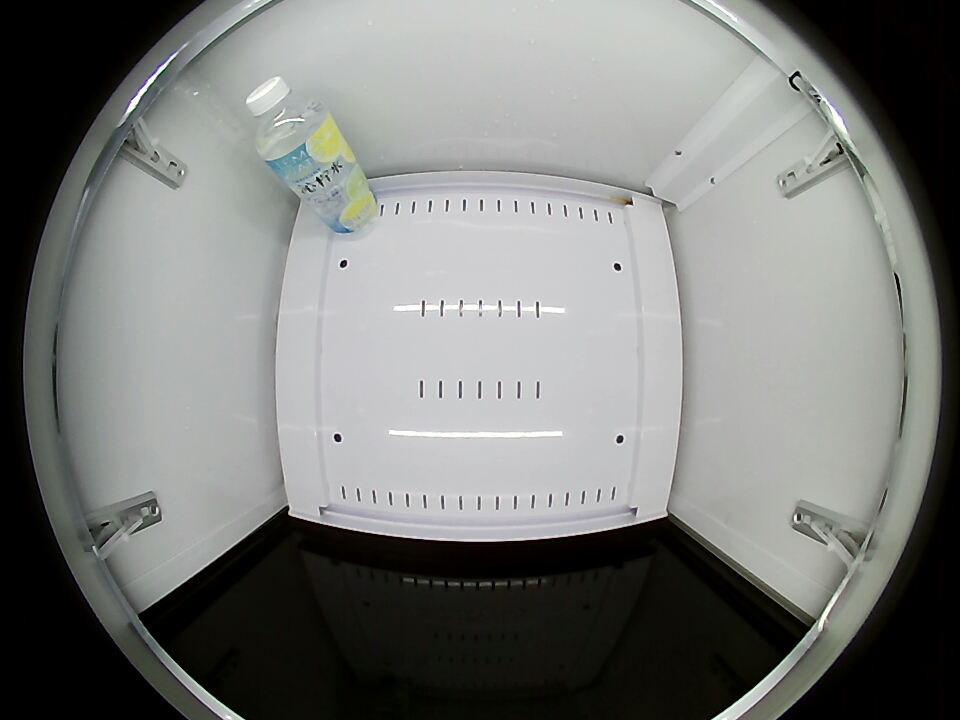qinningshui: (245, 76, 332, 168)
